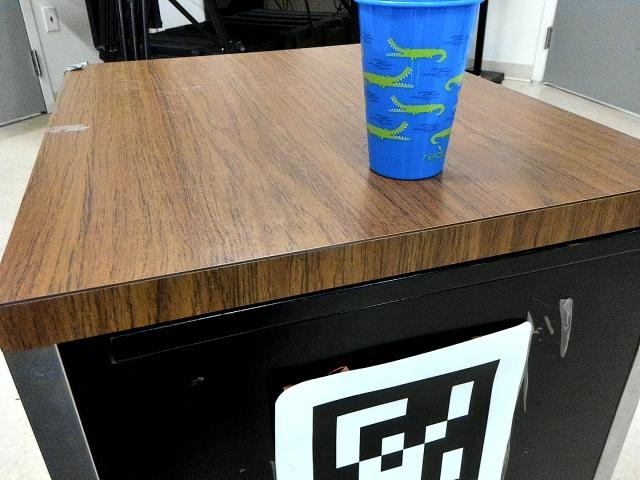water_cup: (347, 1, 483, 182)
